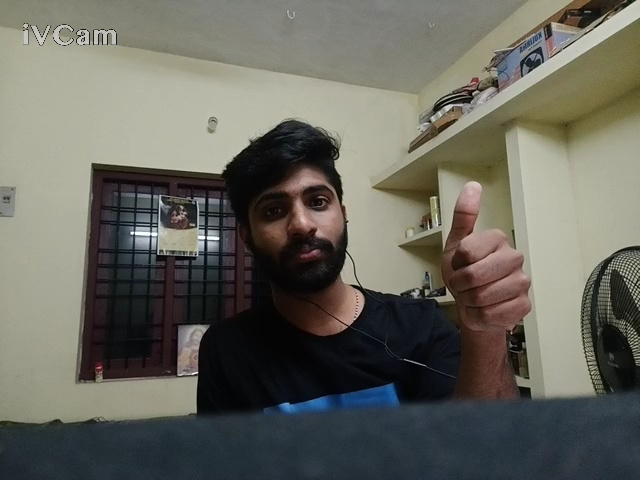Yes: (400, 160, 586, 346)
